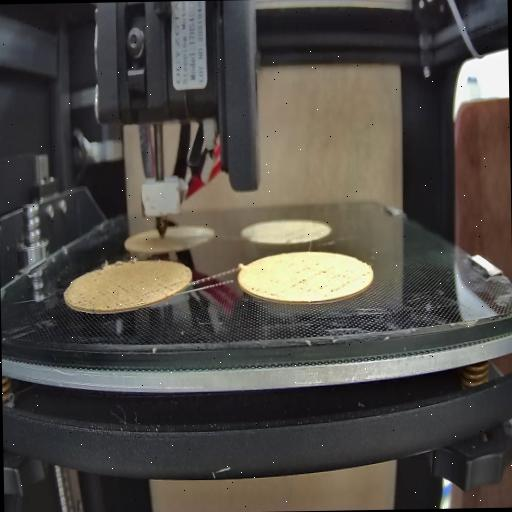under_extrusion: (291, 259, 357, 298), (74, 285, 134, 312), (142, 280, 180, 298), (250, 284, 277, 300)
